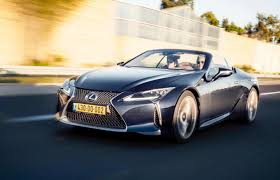licence: (73, 102, 106, 116)
